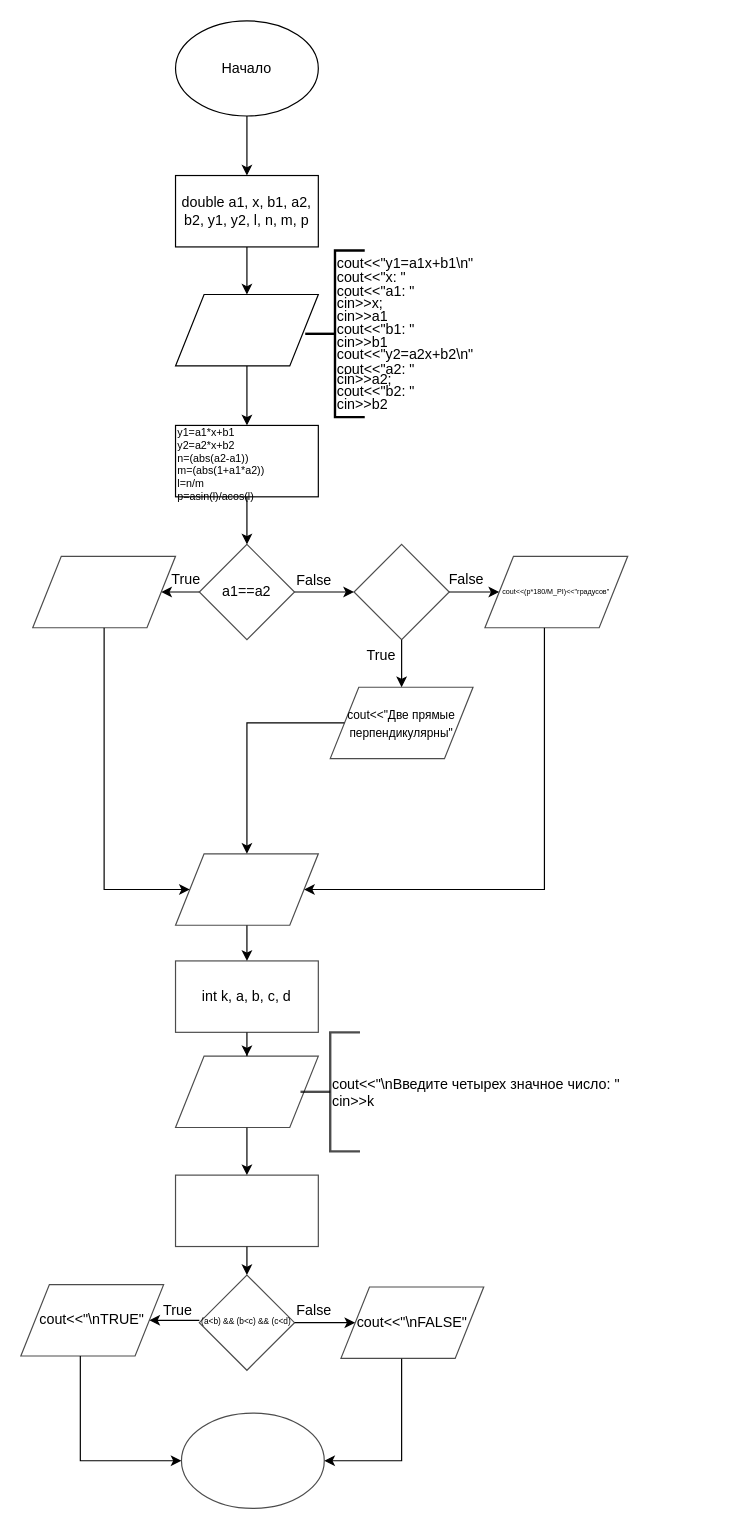
This 756x1529 diagram has some shape labels left out. Each missing label, with the centre of its shape:
a1==-1/a2: pixel 401 591
a= k/1000 b=(k%1000)/100 c=(k%100)/10 d=(k%10): pixel 246 1210
cout<<"\nЗадание 2": pixel 246 889
cout<<"Две прямые параллельны";: pixel 104 591
Конец: pixel 252 1460
